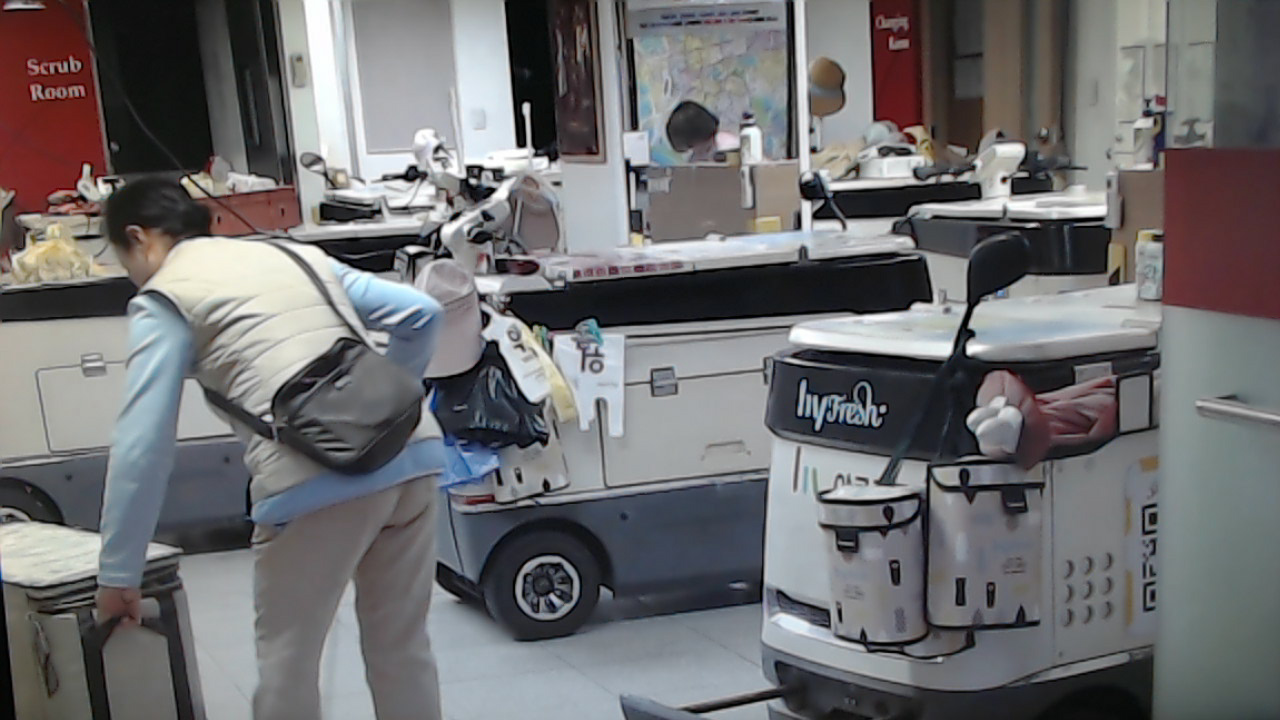Yakurut: (99, 172, 480, 720)
